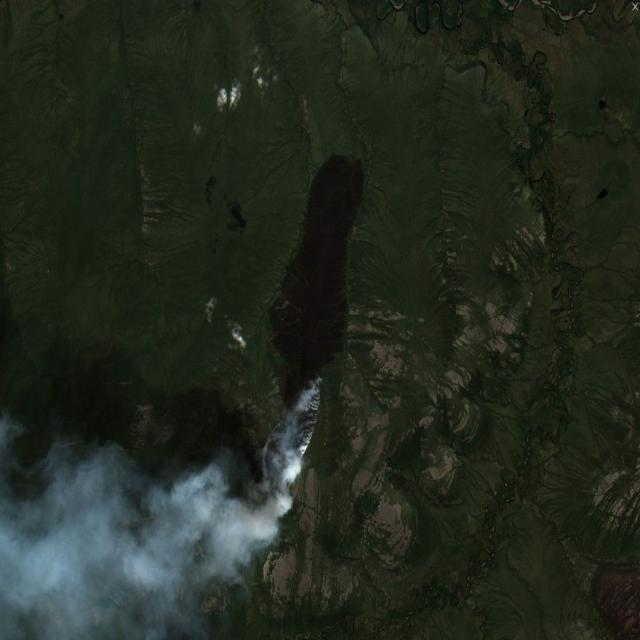fire: (252, 372, 330, 502)
